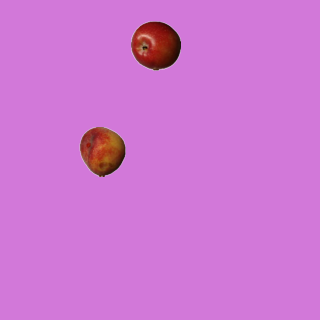Apple Braeburn: (130, 20, 180, 70)
Peach: (77, 126, 127, 176)
